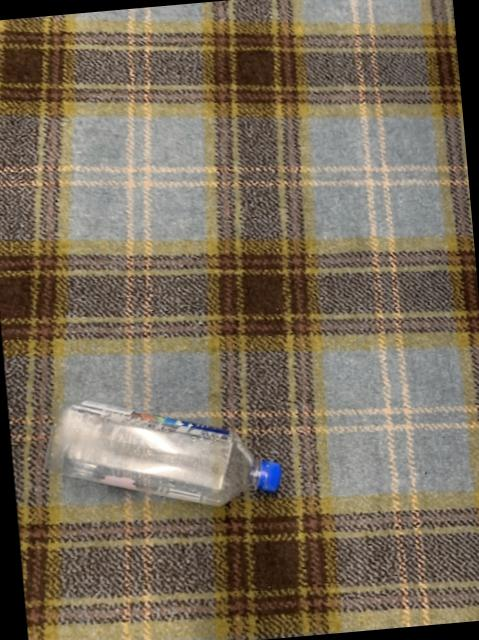plastic: (44, 399, 277, 504)
